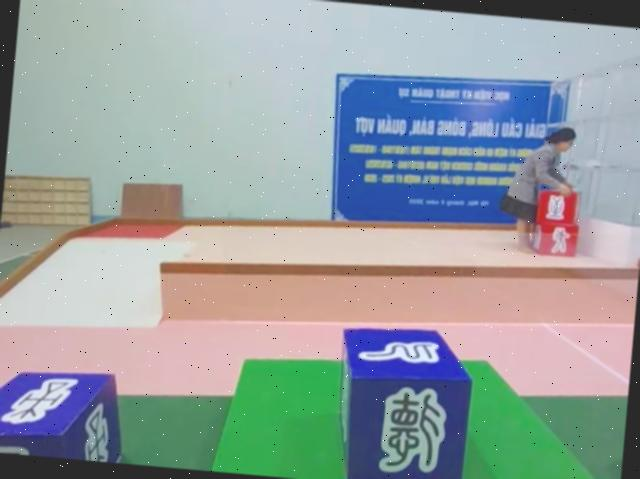R2 Fake Blue: (331, 316, 478, 479)
R2 Real Blue: (0, 362, 127, 462)
